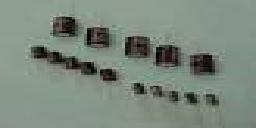Electrolytic-capacitor: (84, 1, 112, 57), (46, 1, 80, 41), (187, 42, 218, 77), (123, 27, 151, 59), (25, 43, 49, 76), (204, 93, 230, 122)
